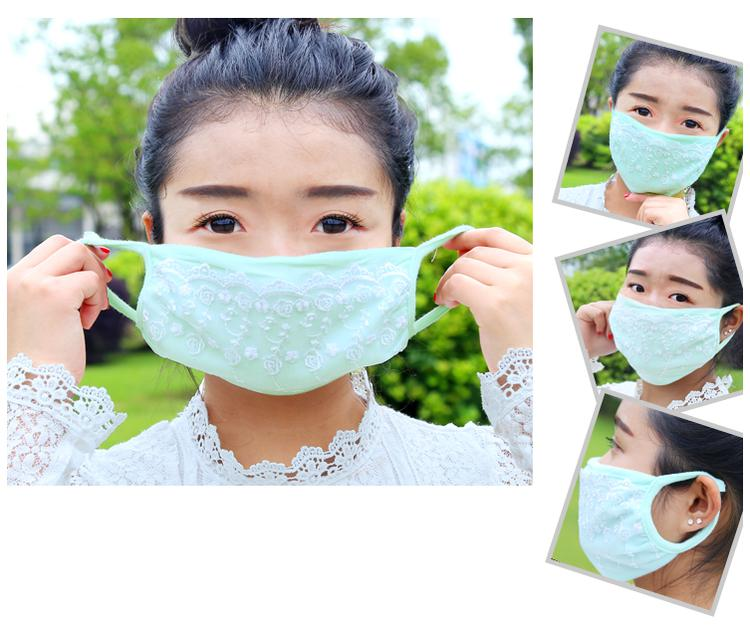NONE: (140, 168, 411, 395)
OK: (573, 420, 693, 575), (610, 263, 727, 380), (609, 88, 715, 194)
